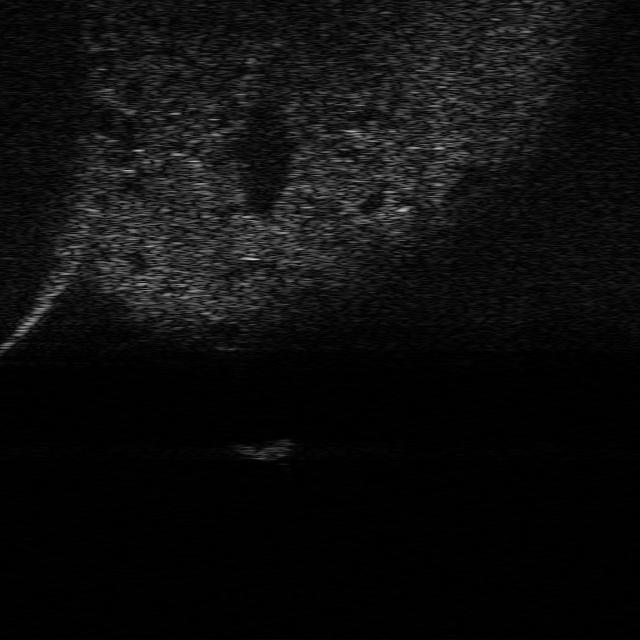cube: (230, 432, 296, 462)
